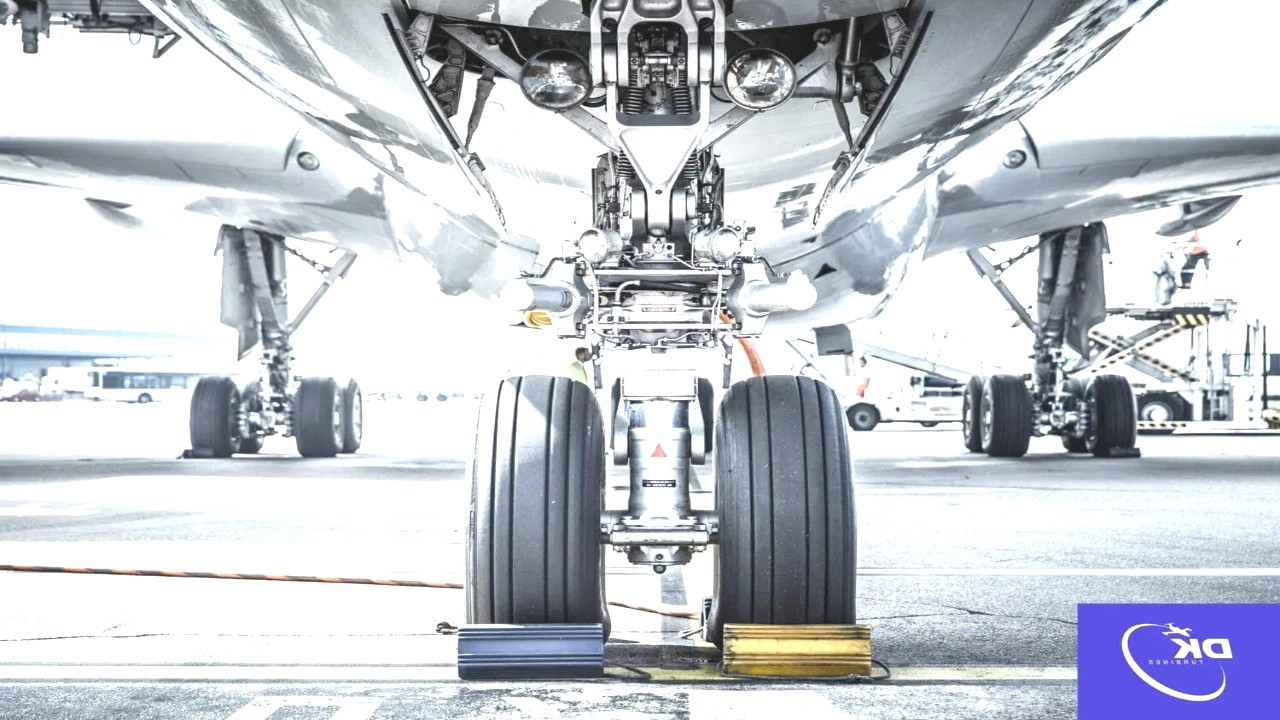chock: (449, 619, 607, 683), (718, 620, 874, 683)
wheel: (709, 378, 860, 650), (468, 376, 613, 644), (611, 374, 717, 464), (964, 372, 1034, 456), (189, 374, 253, 457), (1085, 374, 1139, 456), (294, 375, 342, 457), (1058, 378, 1098, 452), (233, 384, 270, 454), (334, 377, 365, 453), (692, 375, 716, 462), (962, 377, 989, 453), (1134, 392, 1188, 425), (609, 376, 626, 456), (846, 402, 881, 431), (920, 420, 940, 427)
